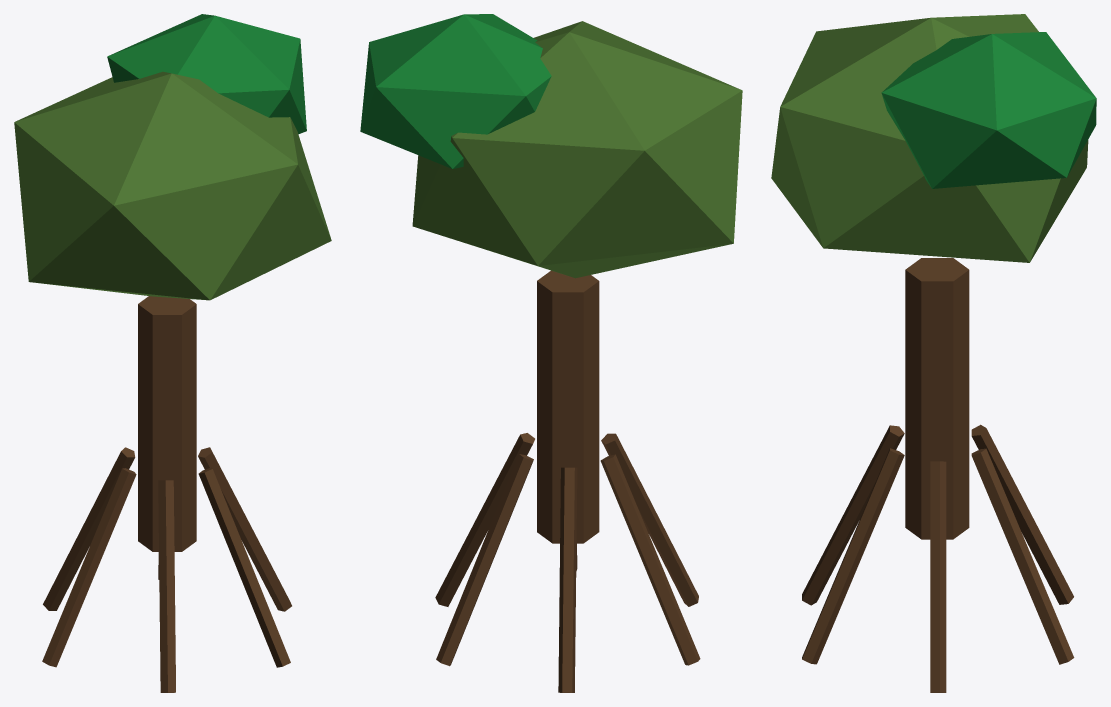
File: mangrove.glb
The picture shows the model from 3 angles, left to right: view 1: azimuth 30°, elevation 25°; view 2: azimuth 150°, elevation 25°; view 3: azimuth 270°, elevation 25°; orthographic projection. The views are drawn at different scales.
Parts seen in each view (by area): view 1: mangrove; view 2: mangrove; view 3: mangrove.
Part boxes in pixels (x1,y1,x2,y2): mangrove: (14, 14, 331, 692); mangrove: (360, 14, 742, 692); mangrove: (771, 14, 1096, 692).
Size of the model in its own units: 2.18 by 3.96 by 1.83.
